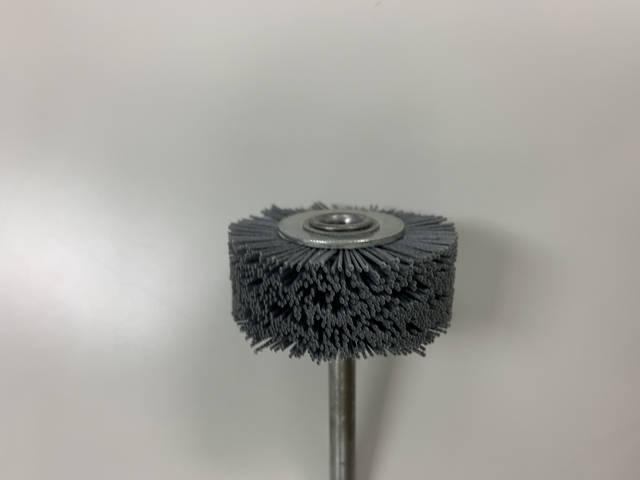Wheel Brush: (217, 194, 454, 476), (234, 171, 447, 439)
